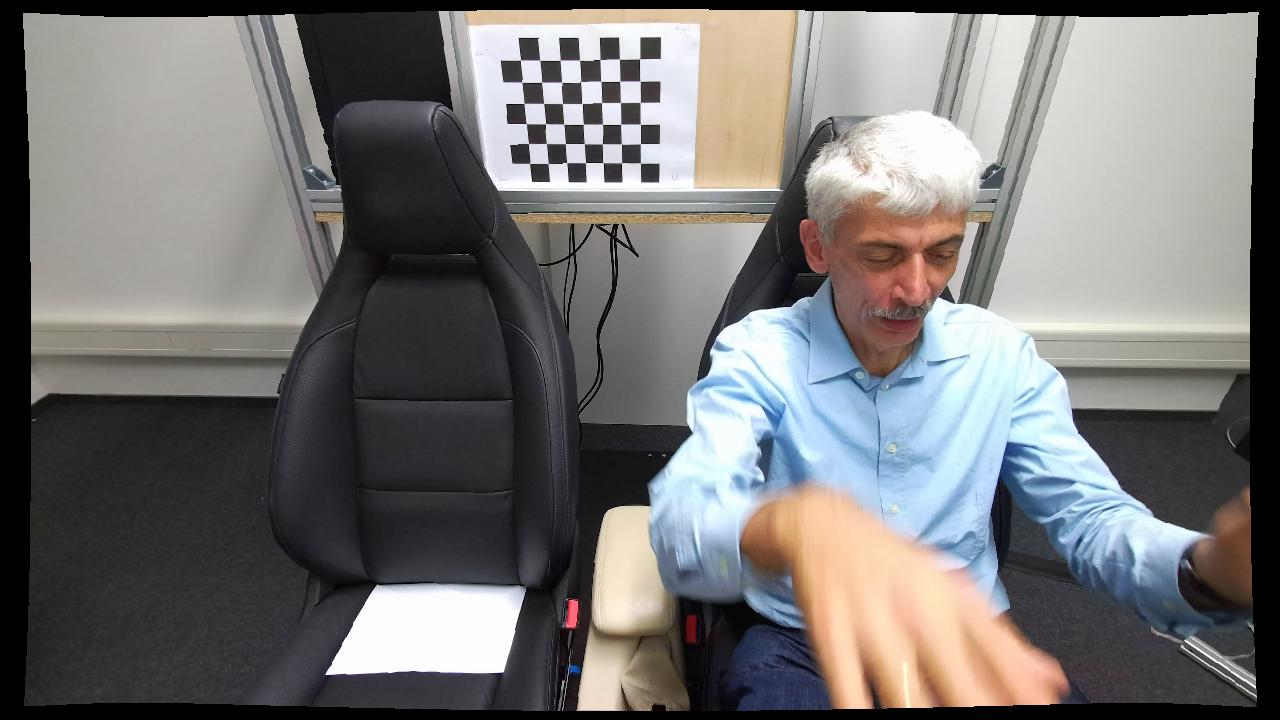Distracted: (648, 103, 1121, 712)
